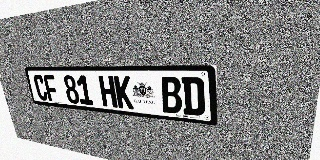1: (75, 75, 93, 105)
8: (62, 75, 80, 104)
B: (160, 76, 182, 114)
C: (32, 75, 49, 101)
D: (181, 77, 205, 116)
F: (43, 75, 59, 102)
H: (98, 76, 118, 108)
K: (114, 76, 134, 109)
